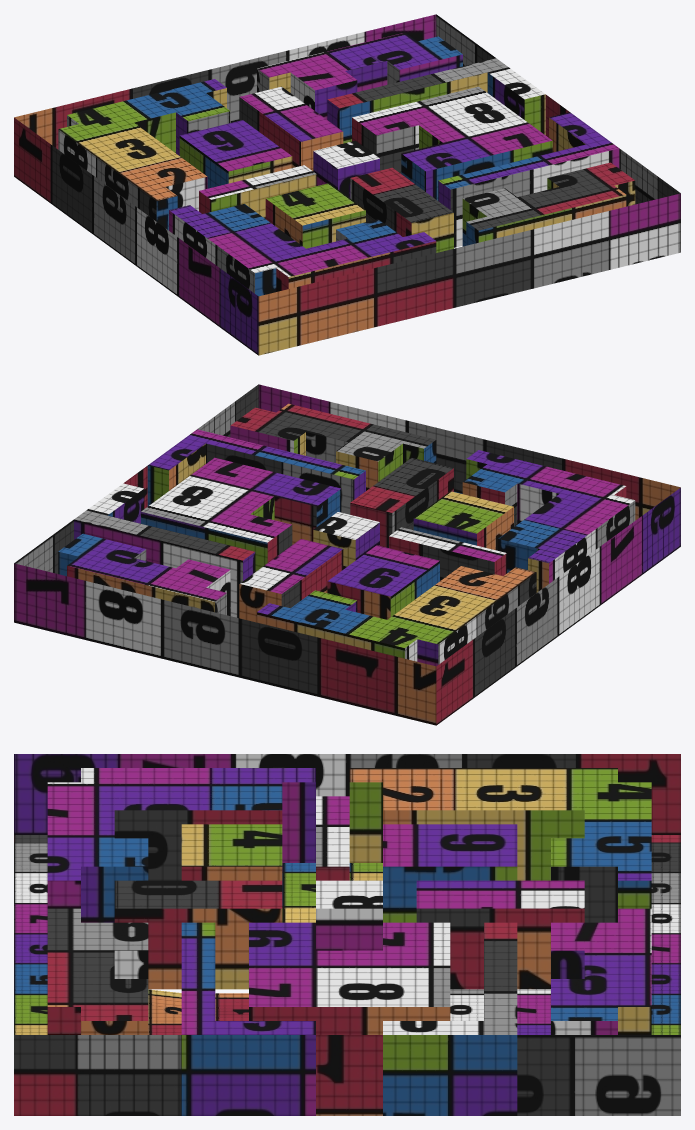
The model's file is path_walls.dae.
3 views of the same model, one above another, from view 1: azimuth 30°, elevation 25°; view 2: azimuth 150°, elevation 25°; view 3: azimuth 270°, elevation 25° (orthographic). The views are drawn at different scales.
Visible parts, largest first — view 1: Walls; view 2: Walls; view 3: Walls, Path.
Part boxes in pixels (bbox=[...]): Walls: bbox=[14, 14, 680, 355]; Walls: bbox=[14, 384, 680, 725]; Walls: bbox=[14, 754, 680, 1115]; Path: bbox=[14, 835, 680, 1034].
Bounding box in the file's own units: 37.31 × 37.42 × 5.91.
Materials: 2 (2 with a texture image).
